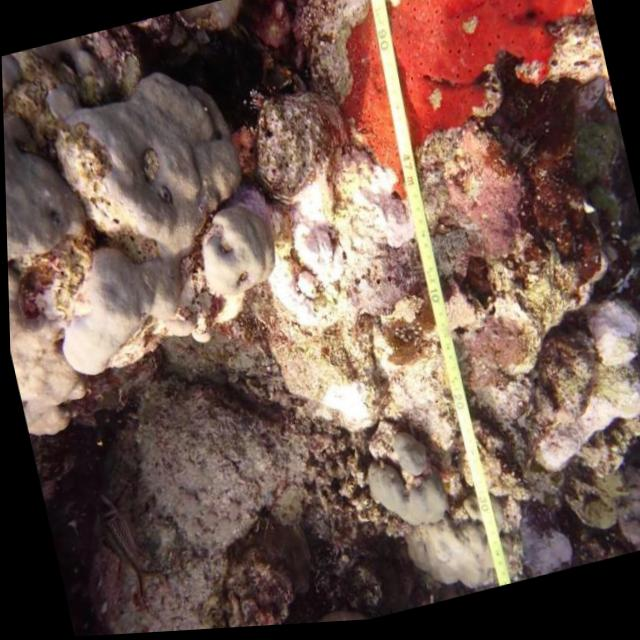Bleached Coral: (248, 152, 428, 321)
